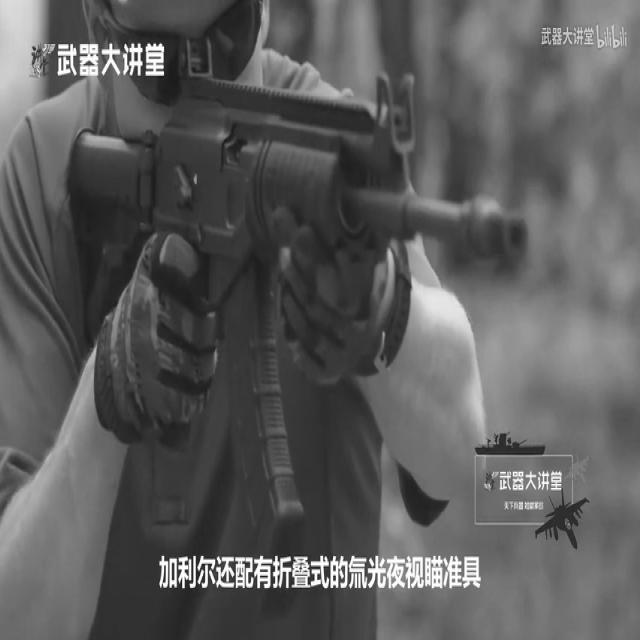Rifle: (48, 0, 577, 640)
